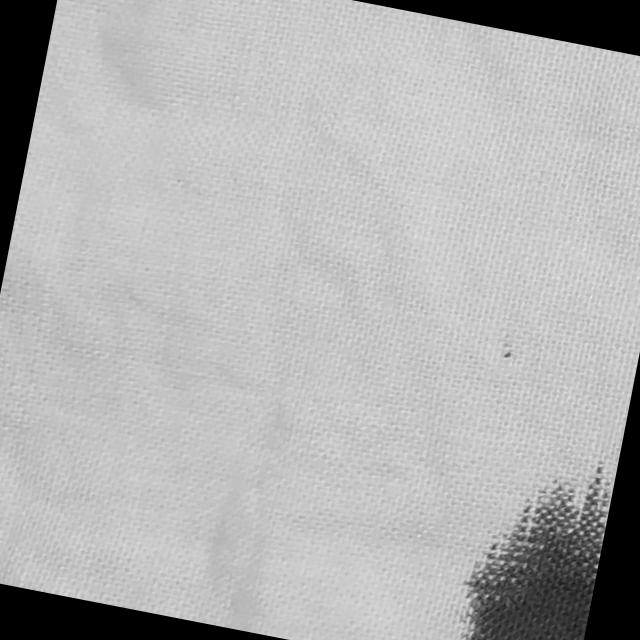Stain: (444, 465, 612, 640)
